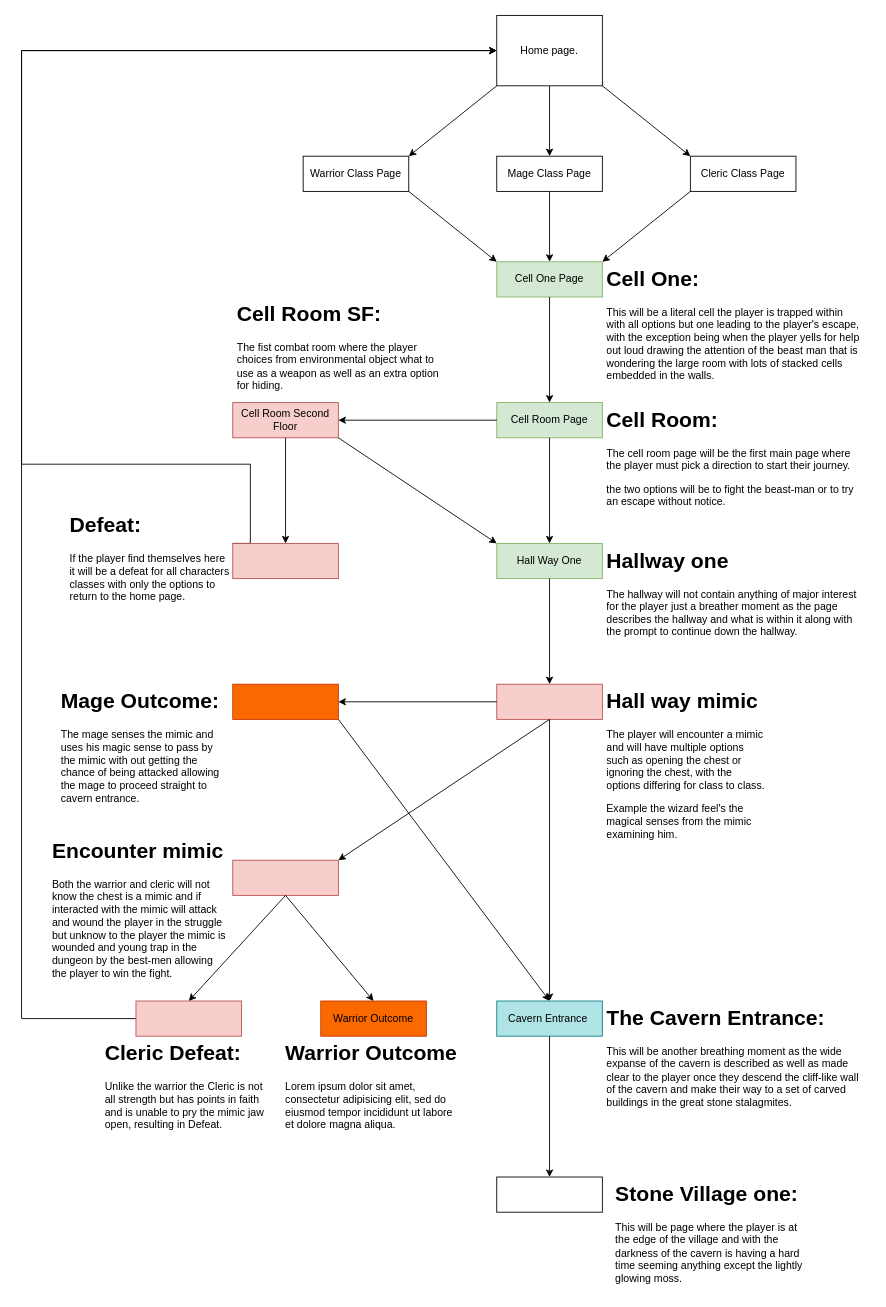
Image size: 886x1307. Some labels were removed from this diagram. The centre of each missing label's shape, as x and y in pixels:
Cell Room Second Floor (DEFEAT): (285,561)
Encounter mimic: (285,877)
Hall Way Chest: (549,701)
Mage outcome: (285,701)
Mimic encounter (Cleric DEFEAT): (188,1018)
